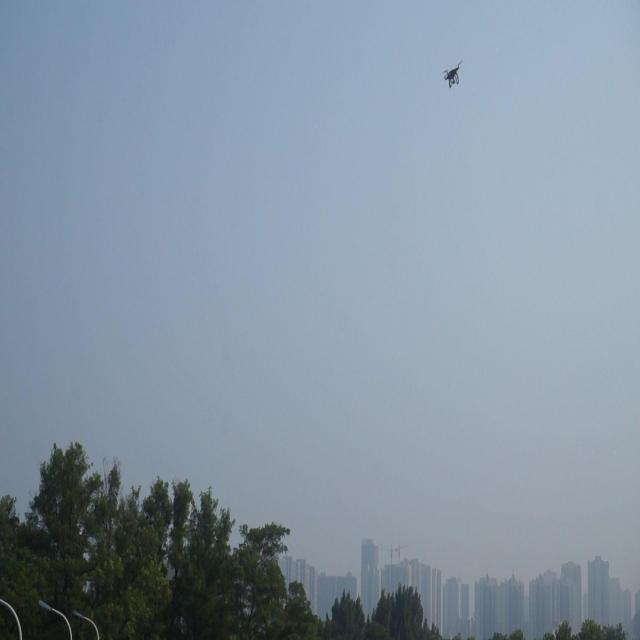UAV: (442, 61, 463, 88)
